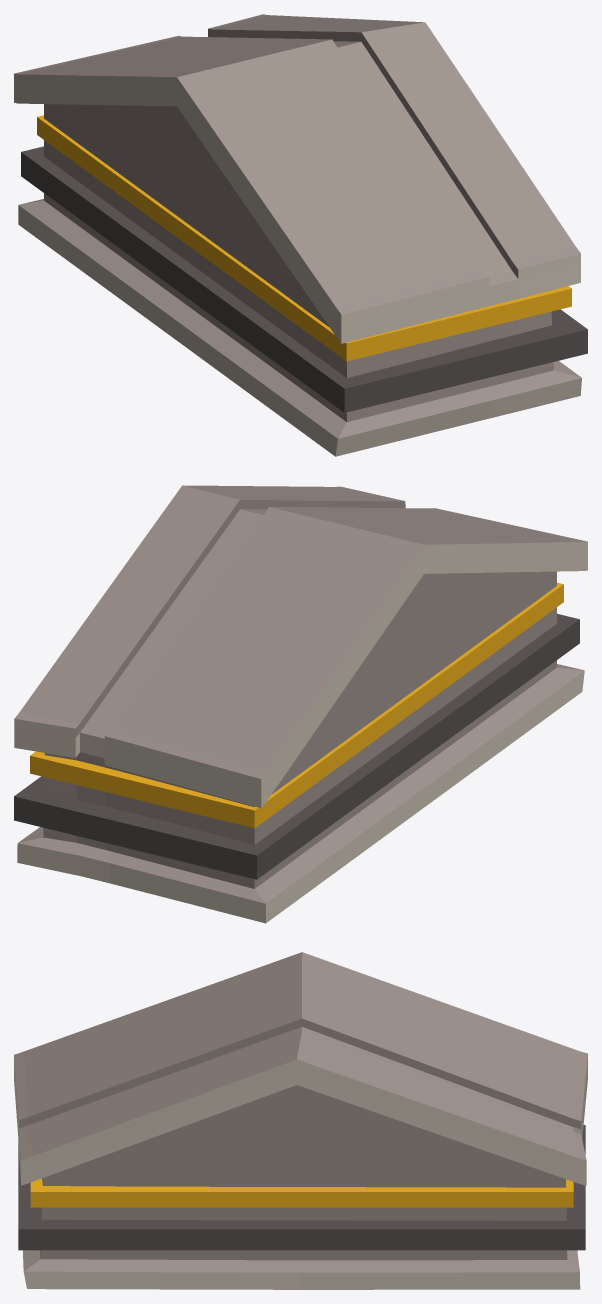
File: Greek_Roof_Tiny.fbx
3 renders of one model, top to bottom at view 1: azimuth 30°, elevation 25°; view 2: azimuth 150°, elevation 25°; view 3: azimuth 270°, elevation 25°, orthographic. The views are drawn at different scales.
Parts seen in each view (by area): view 1: Greek_Roof_Tiny; view 2: Greek_Roof_Tiny; view 3: Greek_Roof_Tiny.
Part boxes in pixels (x1,y1,x2,y2): Greek_Roof_Tiny: [14, 14, 587, 456]; Greek_Roof_Tiny: [14, 485, 587, 923]; Greek_Roof_Tiny: [14, 952, 587, 1289].
Bounding box in the file's own units: 58.98 × 134 × 59.78.
